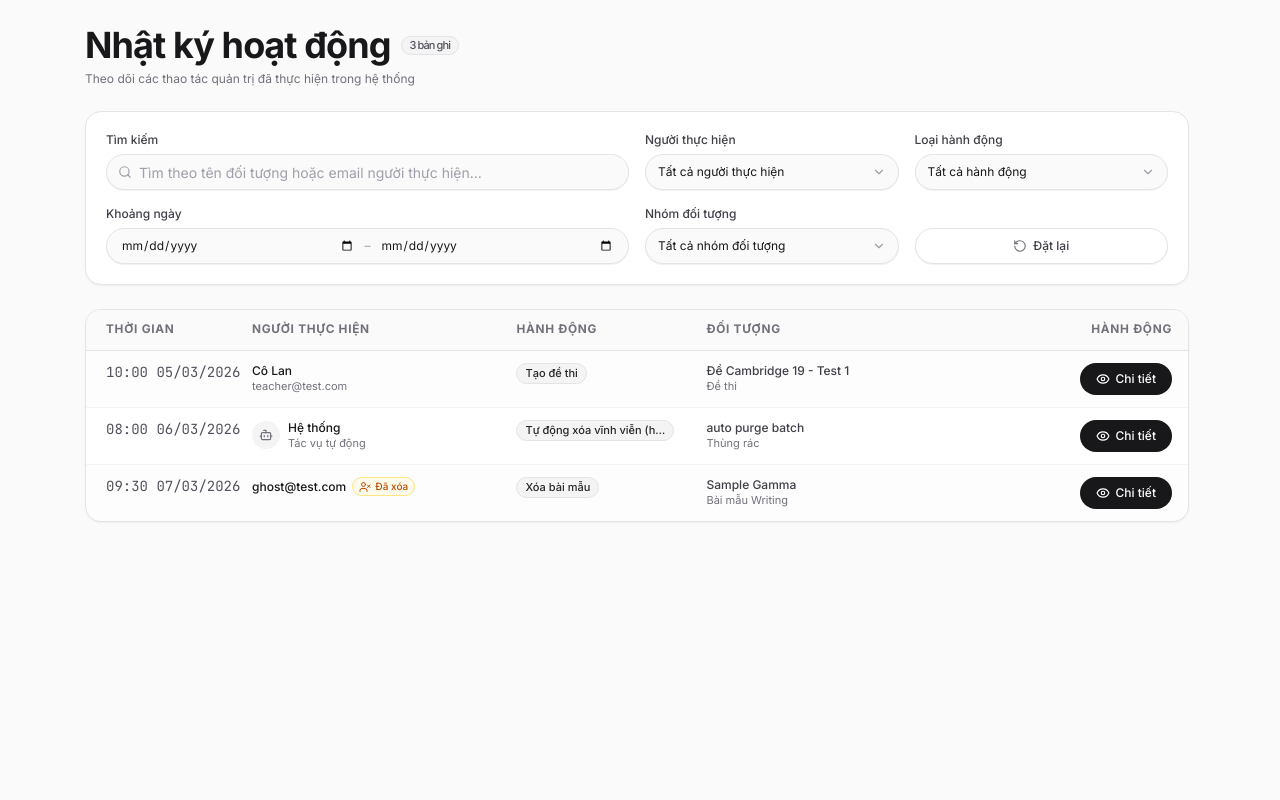
Scenario: AuditLogs page — bảng + modal chi tiết › opens the detail modal with readable metadata key/value pairs (no raw JSON dump)
The image size is (1280, 800).
Expected: the text "Cô Lan" is shown, [252,363,292,379]
Step 1. Click the button "Chi tiết" in the row of "10:00 05/03/2026" → click(1126, 379), box [1080,363,1172,395]
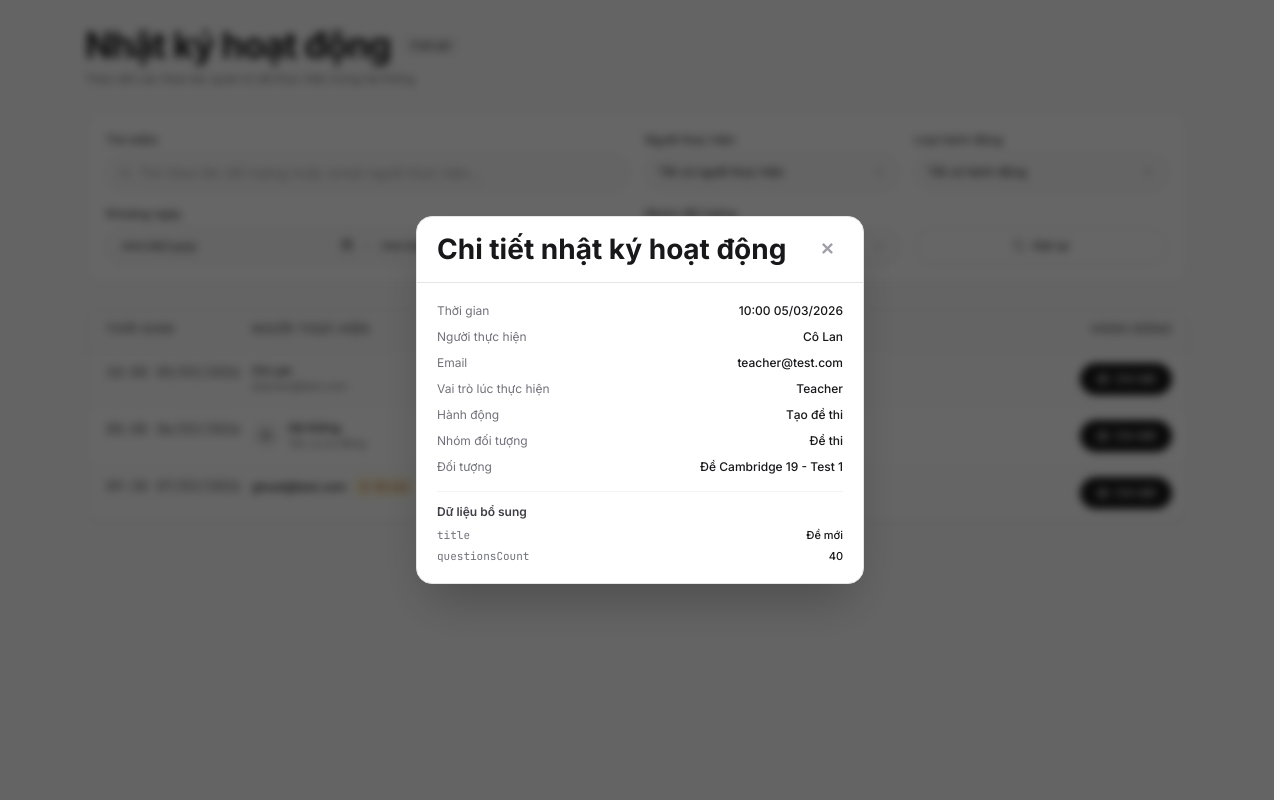
Now the text "title" is shown, box [437,528,470,543]
Now the text "Đề mới" is shown, box [806,528,843,542]
Now the text "questionsCount" is shown, box [437,549,529,564]
